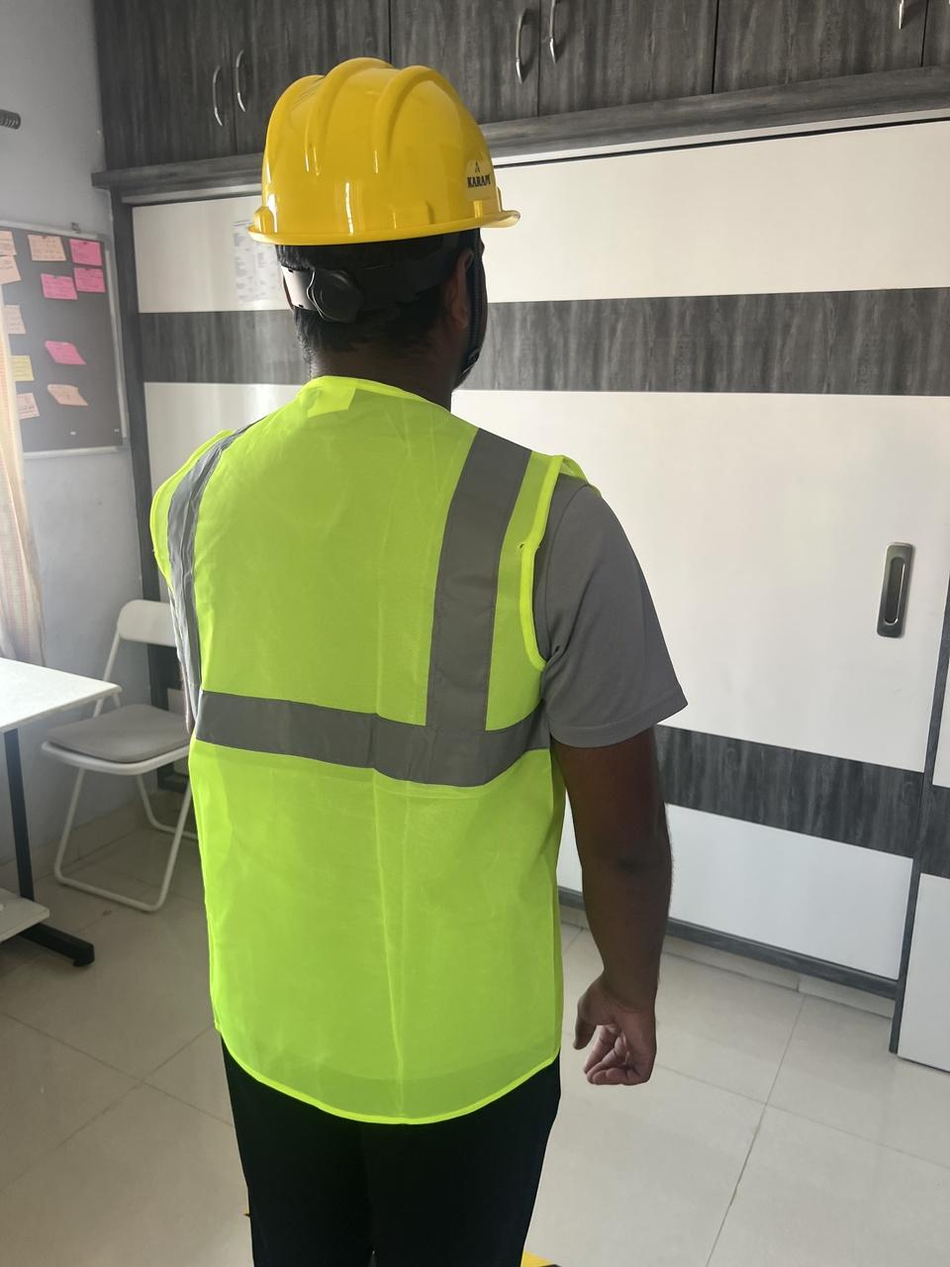Helmet: (246, 57, 522, 244)
Person: (153, 57, 689, 1267)
Vest: (153, 377, 595, 1121)
